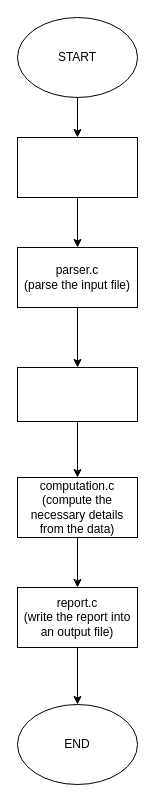
The diagram is 155 pixels wide and 802 high, and some of its shapes have lost their labels. Each missing label, with the centre of its shape:
main.c (controller of application): point (77, 167)
validation.c (validate the parsed data): point (77, 394)
